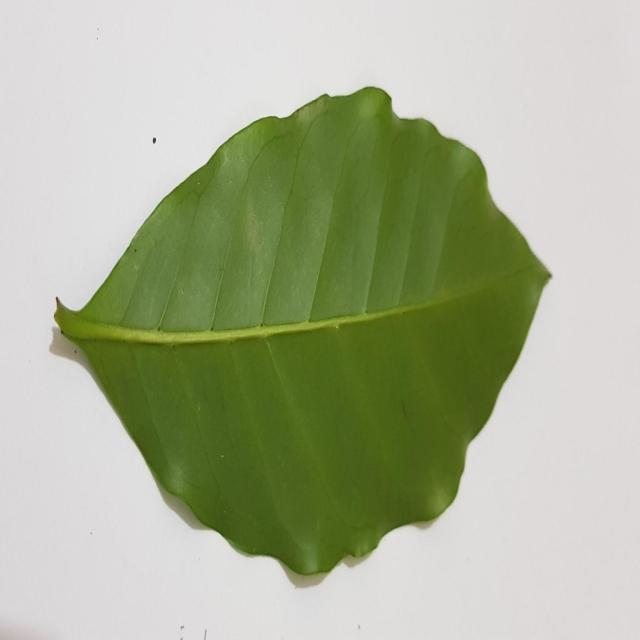Sanas: (52, 86, 552, 588)
